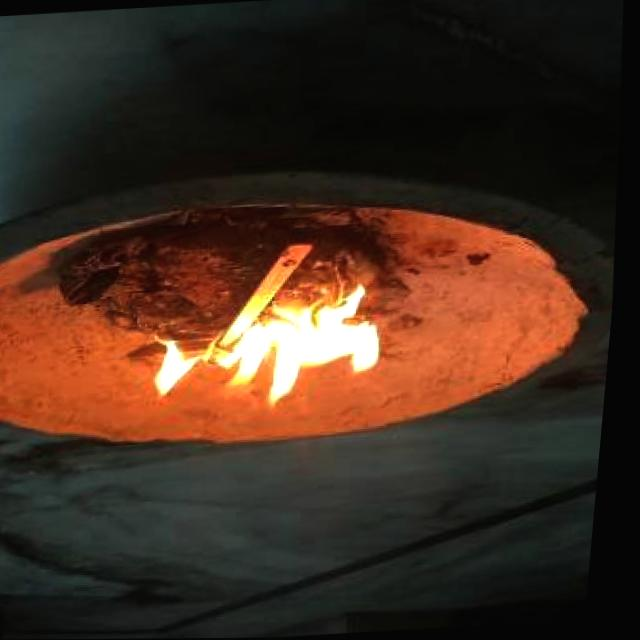Fire: (143, 282, 402, 417)
